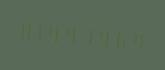eight: (17, 14, 32, 45)
four: (65, 18, 80, 49), (129, 24, 144, 55)
nine: (49, 17, 64, 48), (97, 21, 112, 52)
one: (33, 15, 48, 46)
seven: (81, 19, 96, 51)
six: (113, 22, 128, 53)
